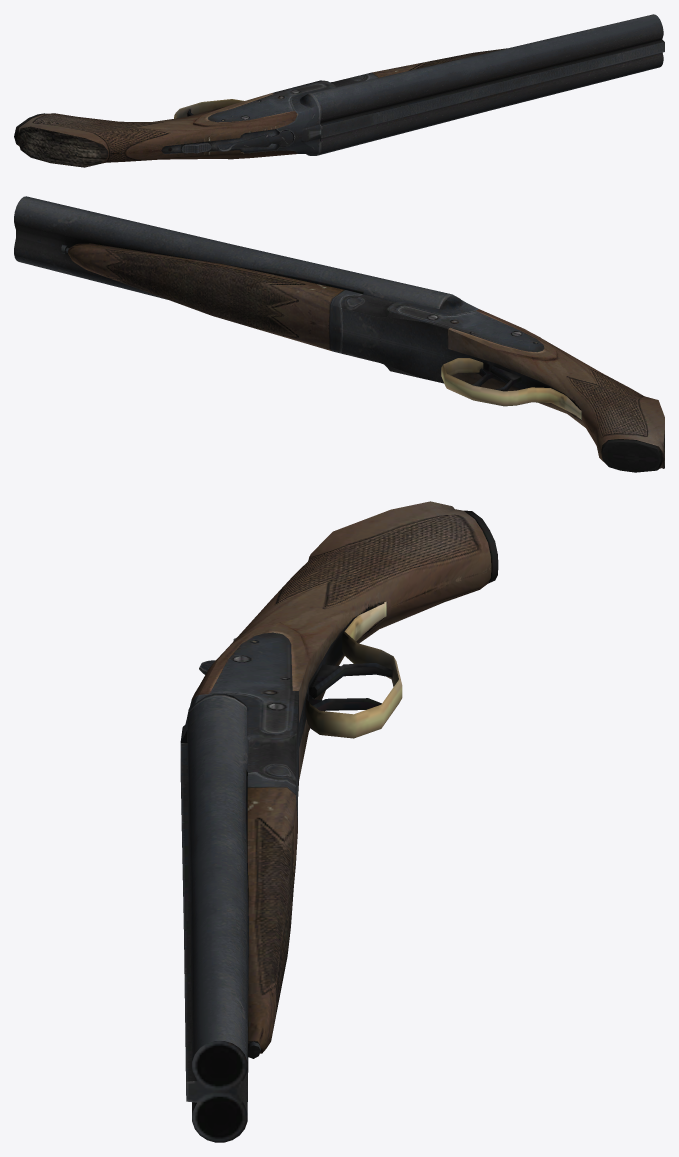
Rendered from weapon_usa_db_shotgun_sawed_LOD01.obj.
The picture shows the model from 3 angles, top to bottom: view 1: azimuth 30°, elevation 25°; view 2: azimuth 150°, elevation 25°; view 3: azimuth 270°, elevation 25°; orthographic projection. The views are drawn at different scales.
Visible parts, largest first — view 1: TomGroup_0, TomGroup_1; view 2: TomGroup_0, TomGroup_1; view 3: TomGroup_0, TomGroup_1.
Boxes of the visible parts, x1,y1,x2,y2 form: TomGroup_0: [14, 14, 664, 155]; TomGroup_1: [16, 48, 506, 167]; TomGroup_0: [14, 196, 662, 472]; TomGroup_1: [68, 243, 664, 468]; TomGroup_0: [180, 510, 498, 1142]; TomGroup_1: [192, 501, 491, 1053].
Size of the model in its own units: 51.65 by 5.08 by 12.26.
Materials: 1 (1 with a texture image).
